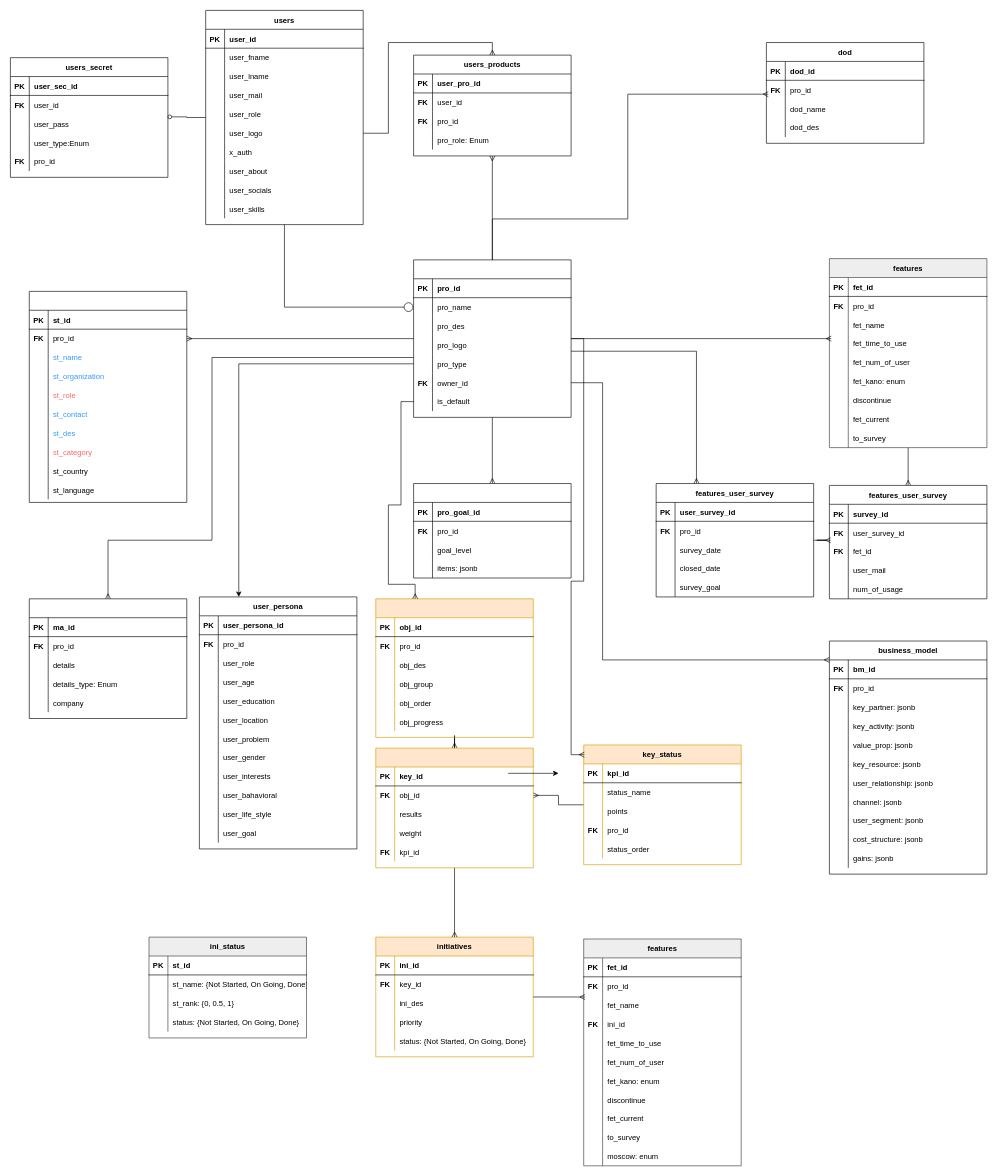
Image size: 997x1176. Some labels were removed from this diagram. The shapes that lost their labels are listed below. From the top down, each one's box as (x1, y1, x2, y2) in pixels, then its label:
(413, 259, 571, 417): product
(29, 291, 187, 502): stakeholders
(413, 483, 571, 578): product_goal
(29, 598, 187, 719): market_analysis
(375, 598, 533, 737): objectives
(375, 747, 533, 868): key_results
